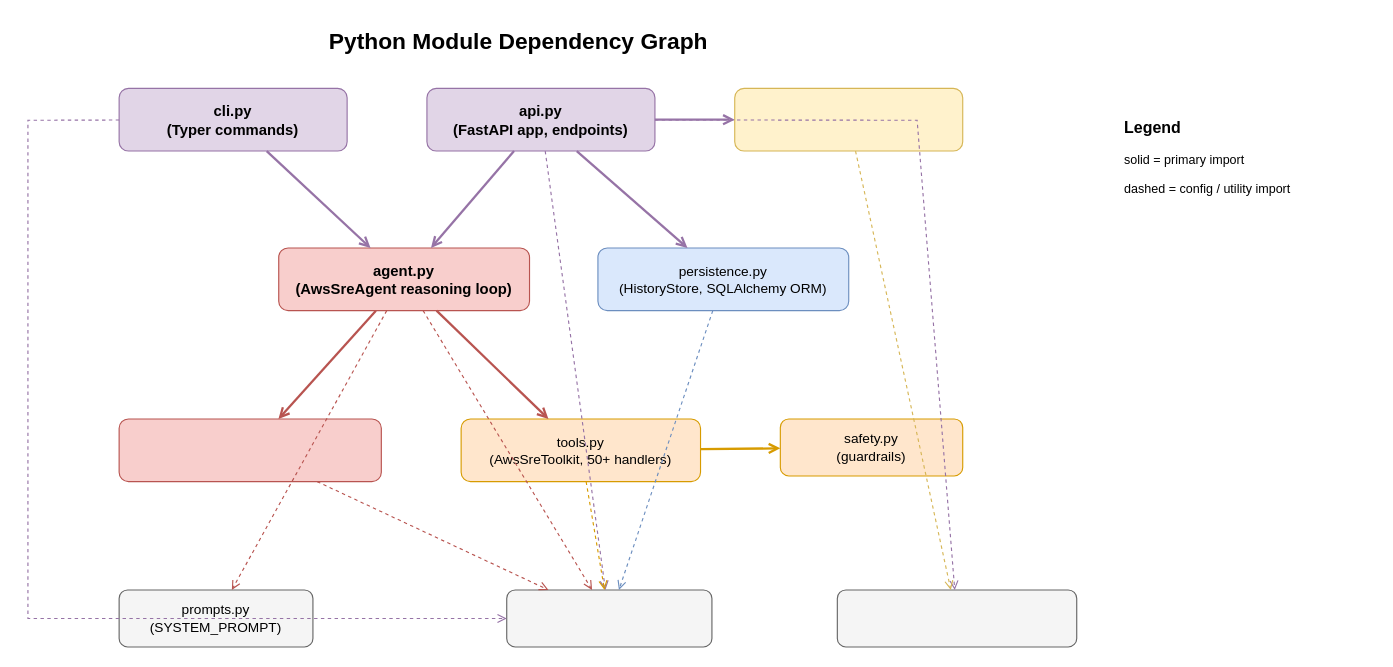
The diagram is 1393 pixels wide and 667 high, and some of its shapes have lost their labels. The shapes that lost their labels are listed below. From the top down, each one's box as (x1, y1, x2, y2) in pixels, then its label:
(734, 87, 963, 151): middleware.py (CORS, Rate limit, Tracing)
(118, 418, 381, 482): model_client.py (OllamaClient, Circuit Breaker)
(506, 589, 712, 647): config.py (Settings dataclass)
(836, 589, 1077, 647): logging_config.py (JSON formatter, request-id)
